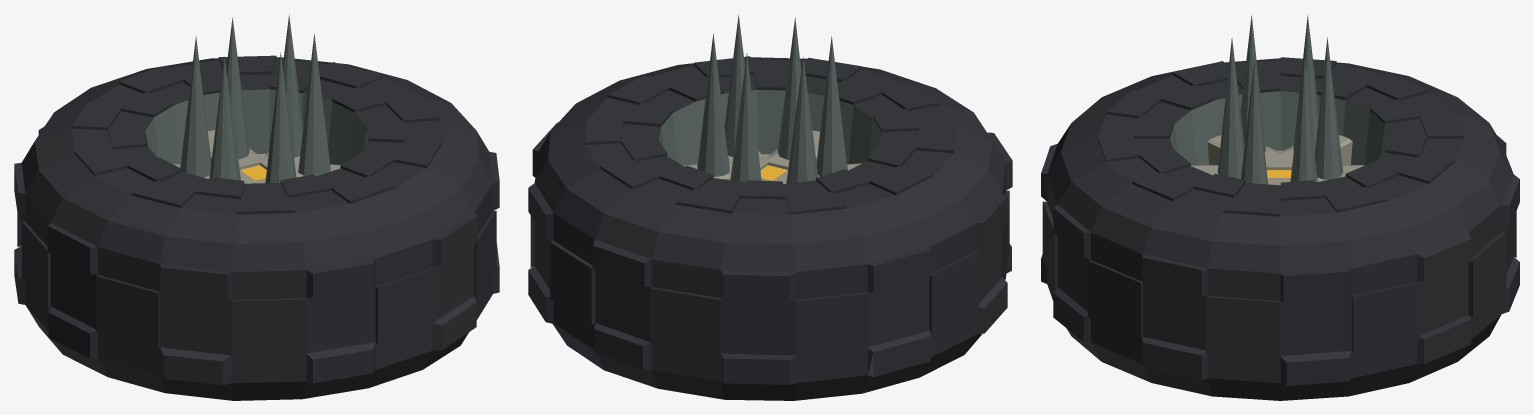
The model's file is wheel (3).glb.
The picture shows the model from 3 angles, left to right: view 1: azimuth 30°, elevation 25°; view 2: azimuth 150°, elevation 25°; view 3: azimuth 270°, elevation 25°; orthographic projection.
Parts seen in each view (by area): view 1: Wheel; view 2: Wheel; view 3: Wheel.
Boxes of the visible parts, box(x1,y1,x2,y2) form: Wheel: box(14, 14, 499, 400); Wheel: box(528, 15, 1012, 400); Wheel: box(1041, 15, 1519, 400).
Bounding box in the file's own units: 0.4443 × 0.2883 × 0.4401.
Materials: 1 (1 with a texture image).
